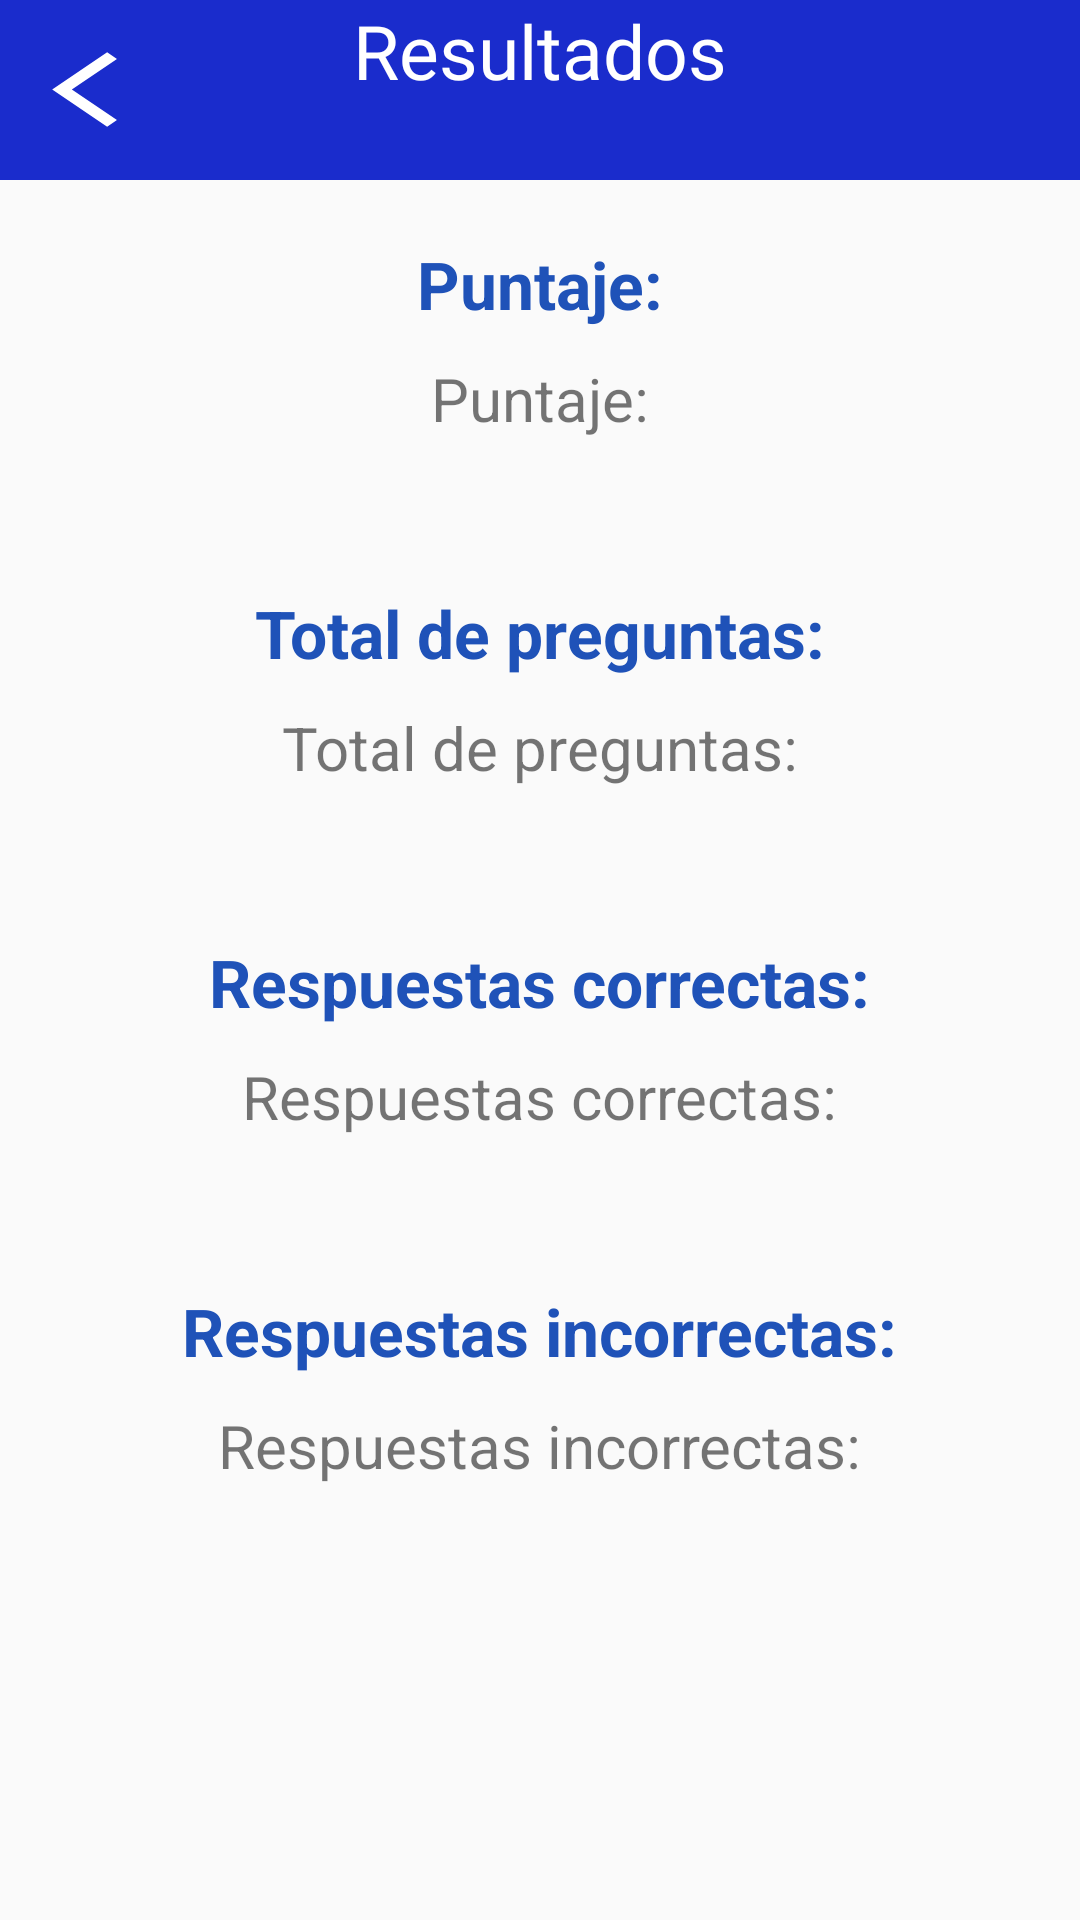

Icons on this 1080 × 1920 Android screen, each with its box as (x1, y1, x2, y2):
back: (52, 52, 117, 127)
